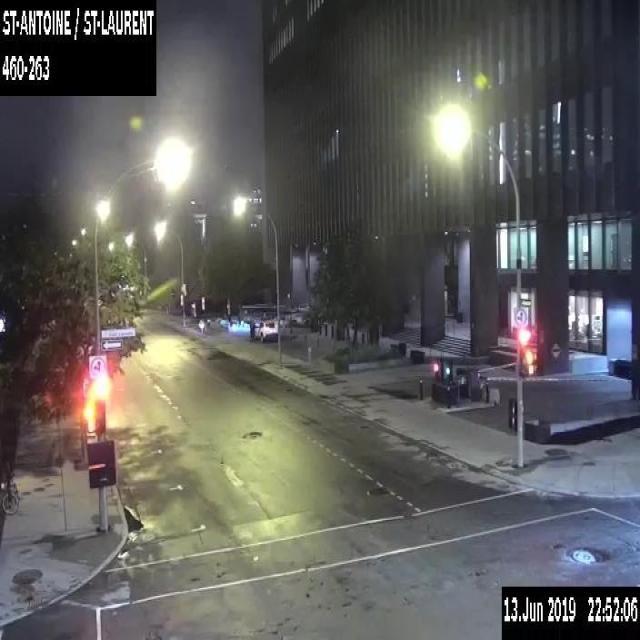pedestrian: (249, 319, 255, 338)
vehicle: (253, 318, 277, 341)
